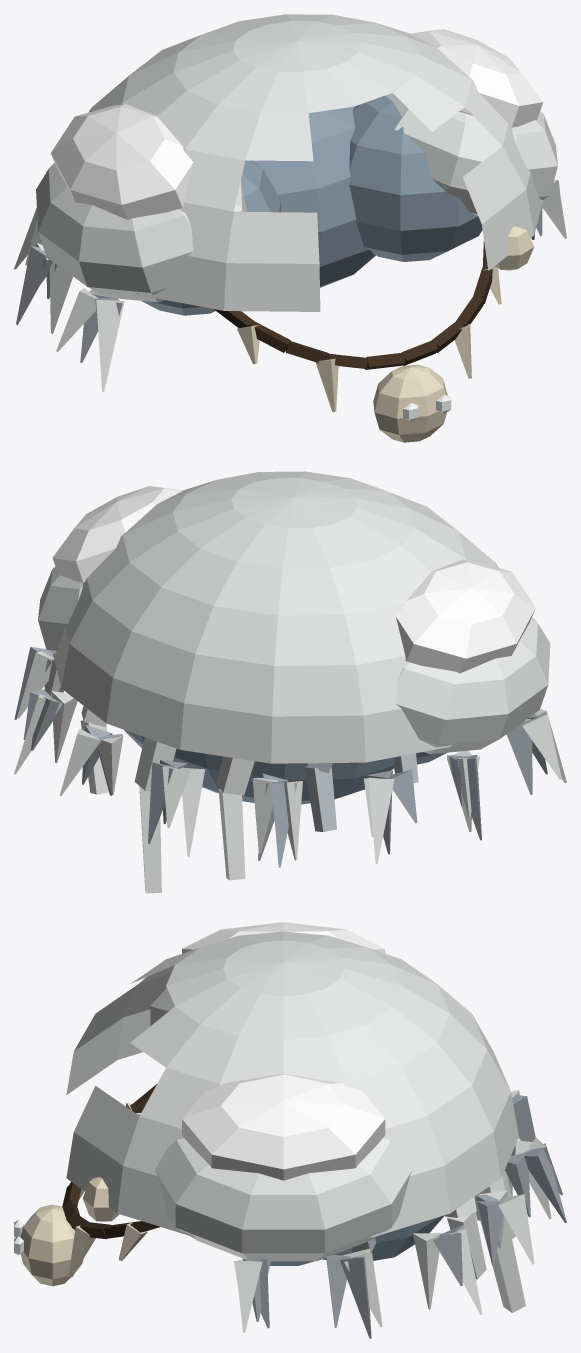
Rendered from mountain_troll_back.glb.
3 renders of one model, top to bottom at view 1: azimuth 30°, elevation 25°; view 2: azimuth 150°, elevation 25°; view 3: azimuth 270°, elevation 25°, orthographic. The views are drawn at different scales.
Visible parts, largest first — view 1: mountain_troll_back; view 2: mountain_troll_back; view 3: mountain_troll_back.
Boxes of the visible parts, x1,y1,x2,y2 form: mountain_troll_back: (14, 14, 566, 442); mountain_troll_back: (14, 471, 566, 893); mountain_troll_back: (14, 922, 566, 1338).
Size of the model in its own units: 1.39 by 0.8553 by 1.29.
